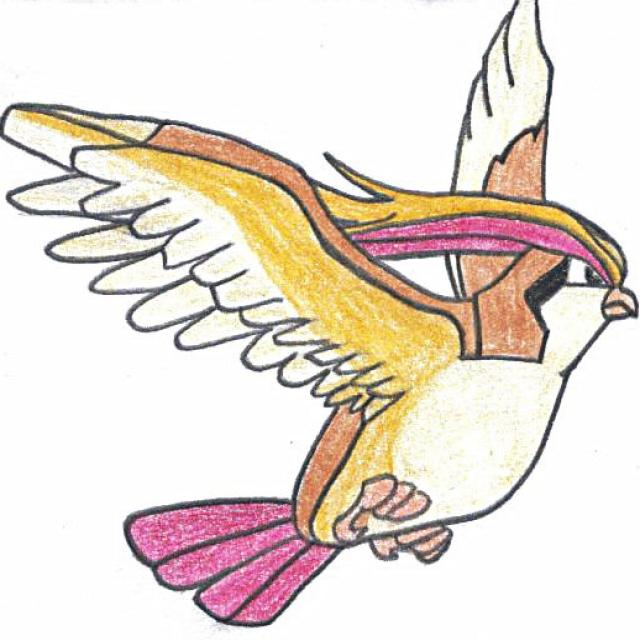Pidgeot: (99, 110, 640, 598)
